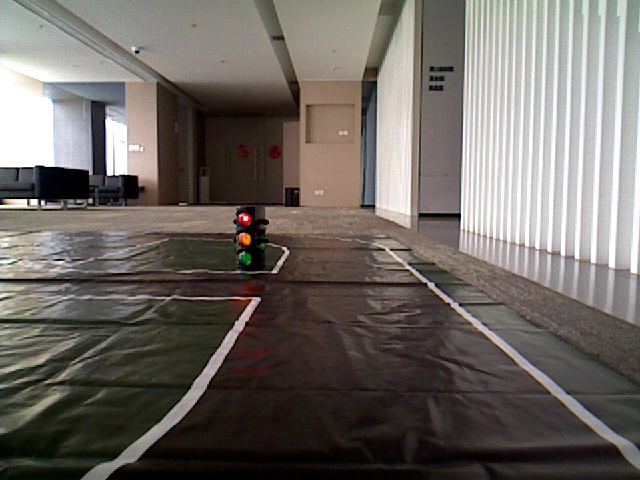red: (236, 208, 256, 264)
